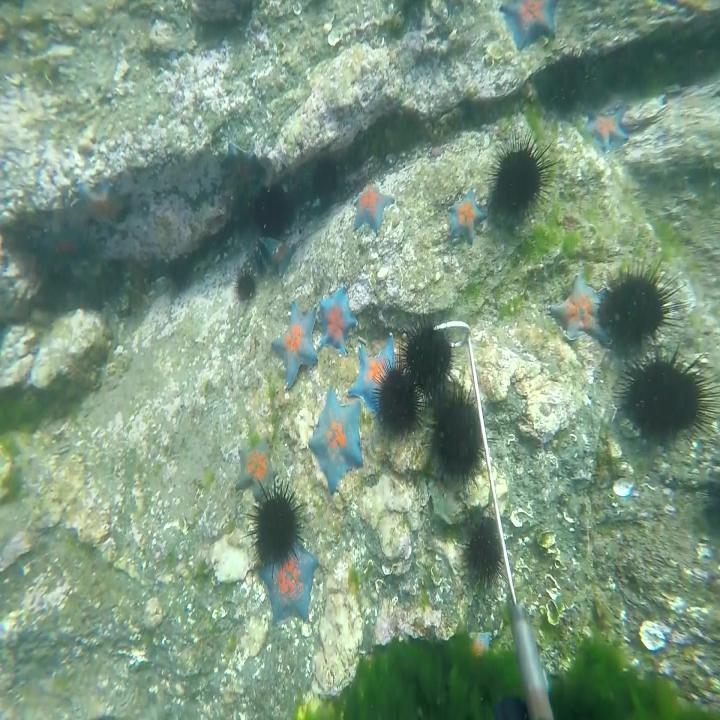echinus: (622, 344, 720, 452), (596, 251, 692, 352), (238, 480, 312, 579), (481, 125, 555, 223), (432, 389, 493, 484), (409, 313, 458, 401), (462, 509, 510, 592), (375, 361, 419, 435), (253, 185, 293, 244), (306, 153, 341, 205), (697, 464, 720, 536), (231, 257, 258, 307)
starfish: (307, 382, 363, 492), (256, 533, 318, 621), (546, 265, 608, 348), (355, 330, 408, 415), (265, 302, 318, 386), (313, 285, 363, 357), (231, 430, 277, 499), (496, 0, 556, 49), (35, 223, 91, 271), (580, 99, 628, 154), (348, 181, 397, 234), (444, 185, 488, 242), (77, 181, 122, 231), (448, 621, 491, 668), (260, 222, 295, 266)
